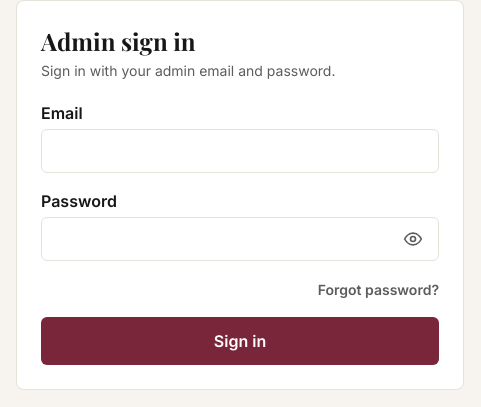
Test: LoginForm › shows the password when the eye toggle is clicked, and hides it again
Step 1. Type "secret-123" into the password field labelled "Password" → point(240, 239), box top-left (41, 217), bottom-right (439, 261)
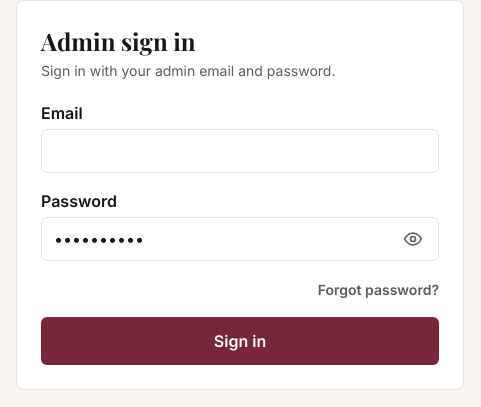
Step 2. Click the button named "Show password" → point(413, 239), box top-left (391, 217), bottom-right (435, 261)
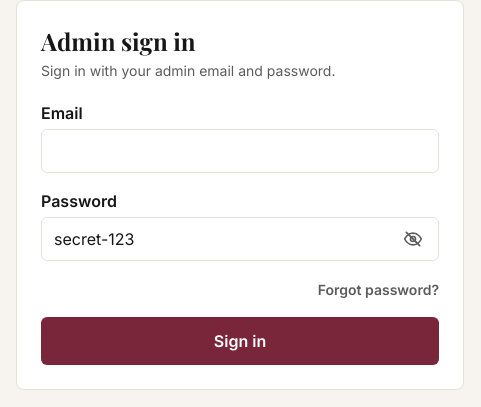
expect the field labelled "Password" shows its text: met, box top-left (41, 217), bottom-right (439, 261)
expect the button named "Hide password" is shown: met
Step 3. Click the button named "Hide password" → point(413, 239), box top-left (391, 217), bottom-right (435, 261)
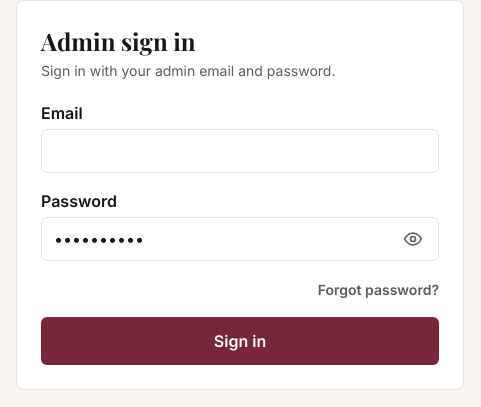
expect the password field labelled "Password" hides its text: met, box top-left (41, 217), bottom-right (439, 261)
